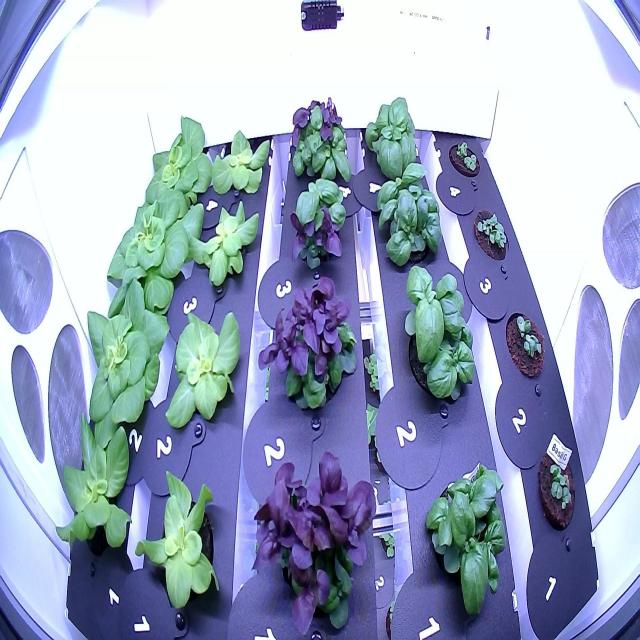germination: (532, 438, 582, 540), (501, 304, 551, 388), (468, 200, 514, 269), (444, 130, 486, 188)
young: (68, 270, 173, 453), (100, 172, 207, 336), (132, 464, 230, 622), (51, 407, 140, 573), (163, 294, 246, 439), (139, 103, 217, 231), (185, 191, 267, 302), (207, 110, 276, 207)
